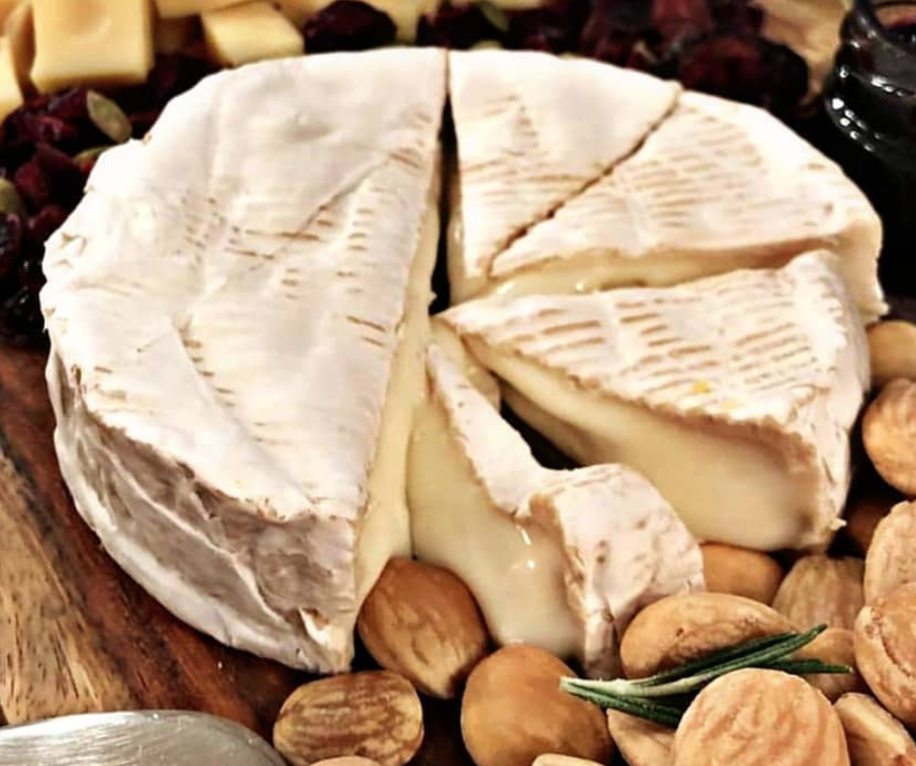camembert: (39, 42, 890, 677)
